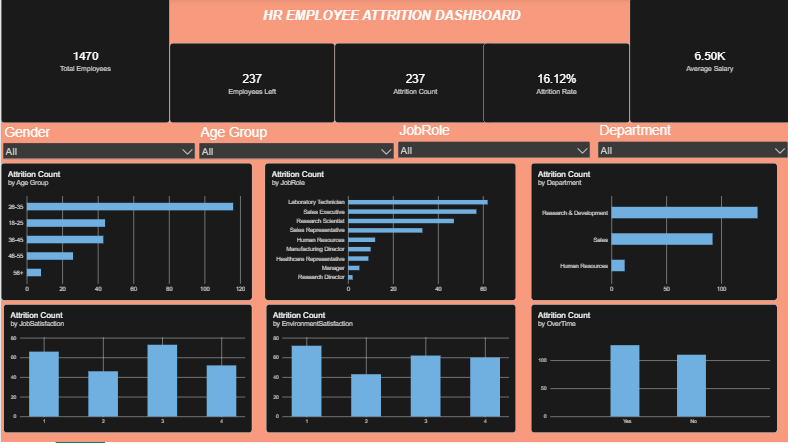

Layout of this report page (visuals, bound fields, positions):
{"tool":"powerbi","page":{"name":"Page 1","canvas":[1920,1080],"ordinal":0},"visuals":[{"type":"slicer","fields":{"Values":["WA_Fn-UseC_-HR-Employee-Attriti.Age Group"]},"box":[477.4,307.1,483.5,97.3],"z":0},{"type":"slicer","fields":{"Values":["WA_Fn-UseC_-HR-Employee-Attriti.Department"]},"box":[1447.3,304.1,471.3,94.3],"z":1000},{"type":"card","fields":{"Values":["WA_Fn-UseC_-HR-Employee-Attriti.Total Employees"]},"box":[0,0,410.5,304.1],"z":2000},{"type":"card","fields":{"Values":["WA_Fn-UseC_-HR-Employee-Attriti.Attrition Count"]},"box":[811.9,109.5,392.2,194.6],"z":3000},{"type":"card","fields":{"Values":["WA_Fn-UseC_-HR-Employee-Attriti.Attrition Rate"]},"box":[1173.7,109.5,355.8,194.6],"z":4000},{"type":"clusteredBarChart","fields":{"Category":["WA_Fn-UseC_-HR-Employee-Attriti.Department"],"Y":["WA_Fn-UseC_-HR-Employee-Attriti.Attrition Count"]},"box":[1289.2,401.4,599,334.5],"z":5000},{"type":"clusteredBarChart","fields":{"Category":["WA_Fn-UseC_-HR-Employee-Attriti.Age Group"],"Y":["WA_Fn-UseC_-HR-Employee-Attriti.Attrition Count"]},"box":[0,401.4,611.2,334.5],"z":6000},{"type":"clusteredBarChart","fields":{"Category":["WA_Fn-UseC_-HR-Employee-Attriti.JobRole"],"Y":["WA_Fn-UseC_-HR-Employee-Attriti.Attrition Count"]},"box":[641.6,401.4,611.2,334.5],"z":7000},{"type":"clusteredColumnChart","fields":{"Category":["WA_Fn-UseC_-HR-Employee-Attriti.OverTime"],"Y":["WA_Fn-UseC_-HR-Employee-Attriti.Attrition Count"]},"box":[1289.2,745,599,313.2],"z":8000},{"type":"clusteredColumnChart","fields":{"Category":["WA_Fn-UseC_-HR-Employee-Attriti.JobSatisfaction"],"Y":["WA_Fn-UseC_-HR-Employee-Attriti.Attrition Count"]},"box":[6.1,745,605.1,313.2],"z":9000},{"type":"clusteredColumnChart","fields":{"Category":["WA_Fn-UseC_-HR-Employee-Attriti.EnvironmentSatisfaction"],"Y":["WA_Fn-UseC_-HR-Employee-Attriti.Attrition Count"]},"box":[644.6,745,608.1,313.2],"z":10000},{"type":"card","fields":{"Values":["WA_Fn-UseC_-HR-Employee-Attriti.Employees Left"]},"box":[410.5,109.5,401.4,194.6],"z":11000},{"type":"textbox","box":[371,24.3,1158.5,127.7],"z":12000},{"type":"textbox","box":[1554,2,364,150],"z":13000},{"type":"card","fields":{"Values":["WA_Fn-UseC_-HR-Employee-Attriti.Average Salary"]},"box":[1529.4,0,389.2,304.1],"z":14000},{"type":"slicer","fields":{"Values":["WA_Fn-UseC_-HR-Employee-Attriti.Gender"]},"box":[0,307.1,477.4,94.3],"z":15000},{"type":"slicer","fields":{"Values":["WA_Fn-UseC_-HR-Employee-Attriti.JobRole"]},"box":[960.8,304.1,477.4,100.3],"z":16000}]}

Visuals, with their boxes in screenshot pixels (x1, y1, x2, y2), scaled from the page's 1920x1080 canvas onto the 788x443 screenshot:
slicer - WA_Fn-UseC_-HR-Employee-Attriti.Age Group: bbox=[196, 126, 394, 166]
slicer - WA_Fn-UseC_-HR-Employee-Attriti.Department: bbox=[594, 125, 787, 163]
card - WA_Fn-UseC_-HR-Employee-Attriti.Total Employees: bbox=[0, 0, 168, 125]
card - WA_Fn-UseC_-HR-Employee-Attriti.Attrition Count: bbox=[333, 45, 494, 125]
card - WA_Fn-UseC_-HR-Employee-Attriti.Attrition Rate: bbox=[482, 45, 628, 125]
clusteredBarChart - WA_Fn-UseC_-HR-Employee-Attriti.Department x WA_Fn-UseC_-HR-Employee-Attriti.Attrition Count: bbox=[529, 165, 775, 302]
clusteredBarChart - WA_Fn-UseC_-HR-Employee-Attriti.Age Group x WA_Fn-UseC_-HR-Employee-Attriti.Attrition Count: bbox=[0, 165, 251, 302]
clusteredBarChart - WA_Fn-UseC_-HR-Employee-Attriti.JobRole x WA_Fn-UseC_-HR-Employee-Attriti.Attrition Count: bbox=[263, 165, 514, 302]
clusteredColumnChart - WA_Fn-UseC_-HR-Employee-Attriti.OverTime x WA_Fn-UseC_-HR-Employee-Attriti.Attrition Count: bbox=[529, 306, 775, 434]
clusteredColumnChart - WA_Fn-UseC_-HR-Employee-Attriti.JobSatisfaction x WA_Fn-UseC_-HR-Employee-Attriti.Attrition Count: bbox=[3, 306, 251, 434]
clusteredColumnChart - WA_Fn-UseC_-HR-Employee-Attriti.EnvironmentSatisfaction x WA_Fn-UseC_-HR-Employee-Attriti.Attrition Count: bbox=[265, 306, 514, 434]
card - WA_Fn-UseC_-HR-Employee-Attriti.Employees Left: bbox=[168, 45, 333, 125]
textbox: bbox=[152, 10, 628, 62]
textbox: bbox=[638, 1, 787, 62]
card - WA_Fn-UseC_-HR-Employee-Attriti.Average Salary: bbox=[628, 0, 787, 125]
slicer - WA_Fn-UseC_-HR-Employee-Attriti.Gender: bbox=[0, 126, 196, 165]
slicer - WA_Fn-UseC_-HR-Employee-Attriti.JobRole: bbox=[394, 125, 590, 166]
